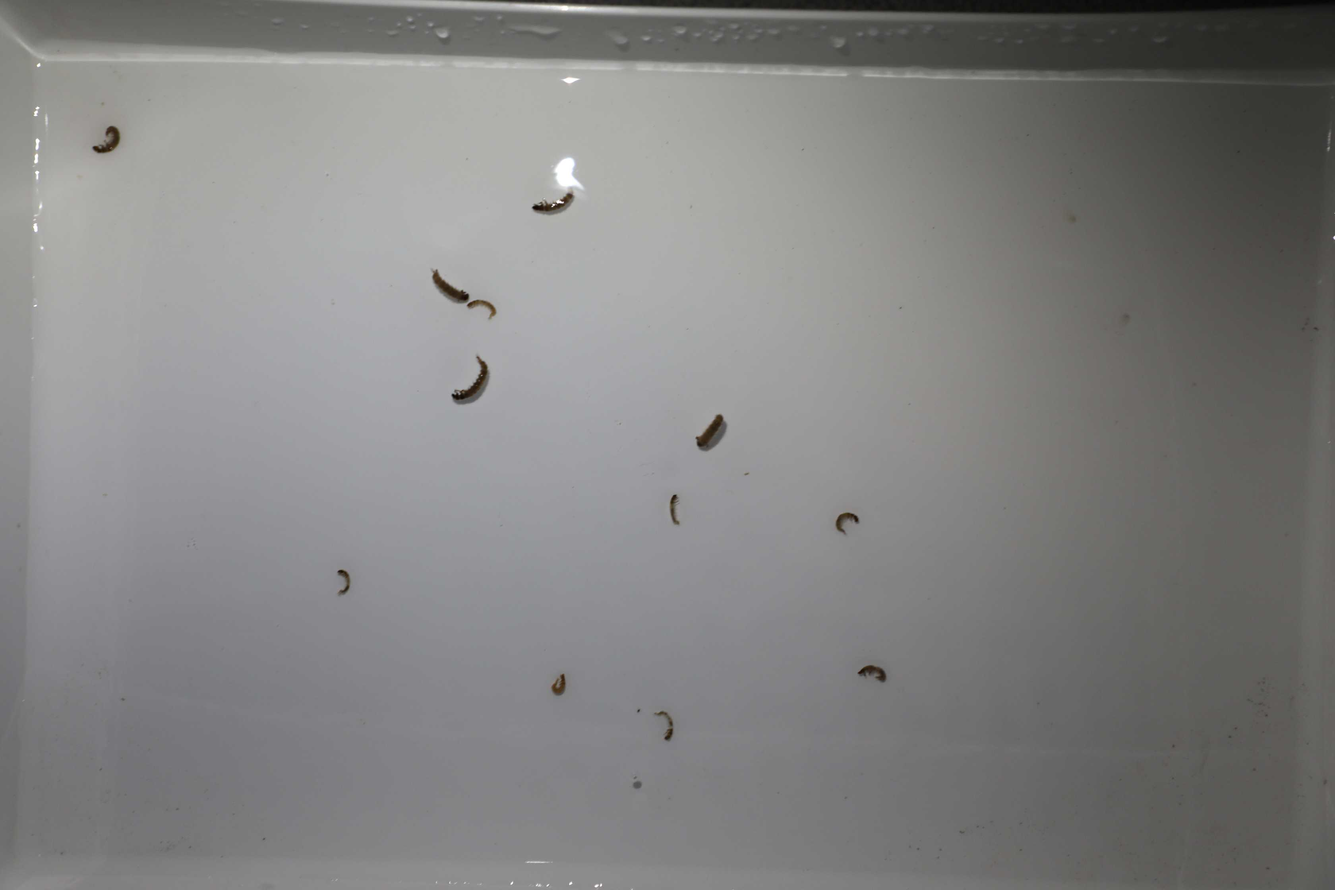Cadisfly: (451, 353, 490, 403), (429, 267, 467, 304), (528, 183, 571, 215), (695, 414, 723, 451), (92, 127, 121, 160), (855, 660, 888, 687), (832, 509, 862, 537), (652, 710, 677, 743), (332, 566, 352, 603), (662, 495, 684, 528), (467, 299, 500, 320), (548, 670, 568, 703)
